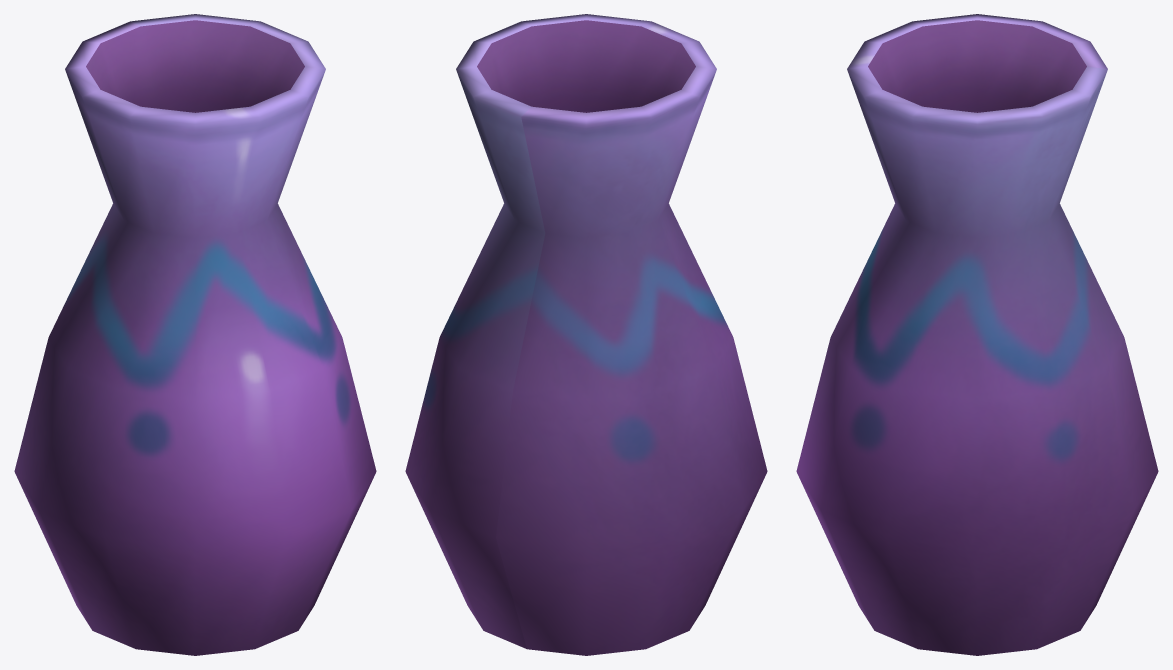
Rendered from Vase.FBX.
The picture shows the model from 3 angles, left to right: view 1: azimuth 30°, elevation 25°; view 2: azimuth 150°, elevation 25°; view 3: azimuth 270°, elevation 25°; orthographic projection.
Visible parts, largest first — view 1: Cylinder009; view 2: Cylinder009; view 3: Cylinder009.
Part boxes in pixels (box(x1,y1,x2,y2)): Cylinder009: box(14, 14, 376, 655); Cylinder009: box(405, 14, 767, 655); Cylinder009: box(796, 14, 1158, 655).
Size of the model in its own units: 1.7 by 2.79 by 1.7.
